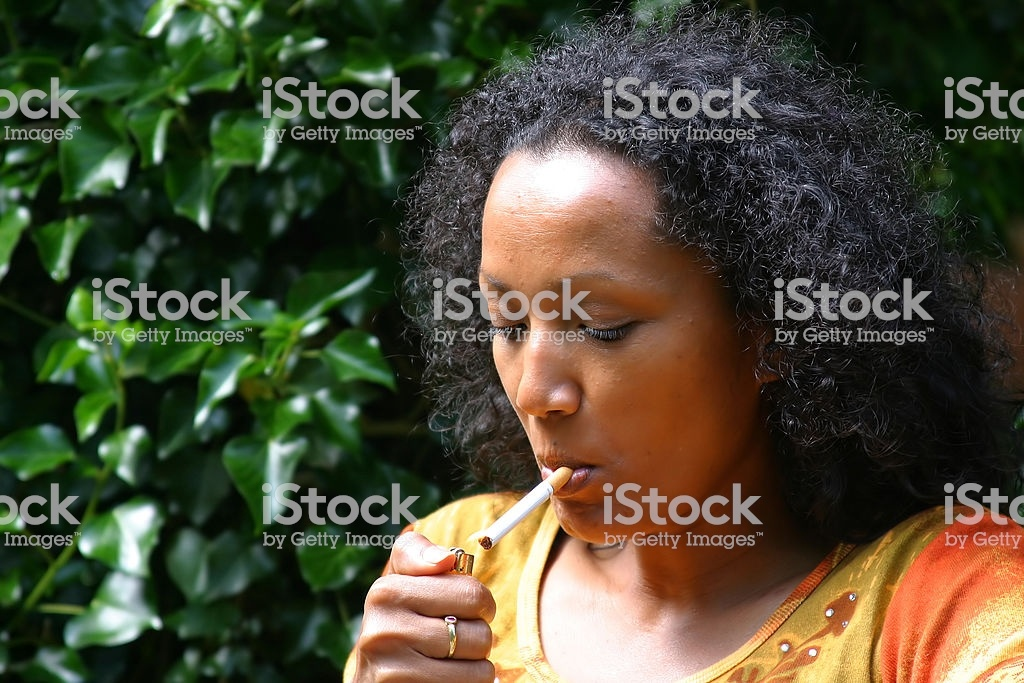sigaretta: (476, 468, 581, 547)
